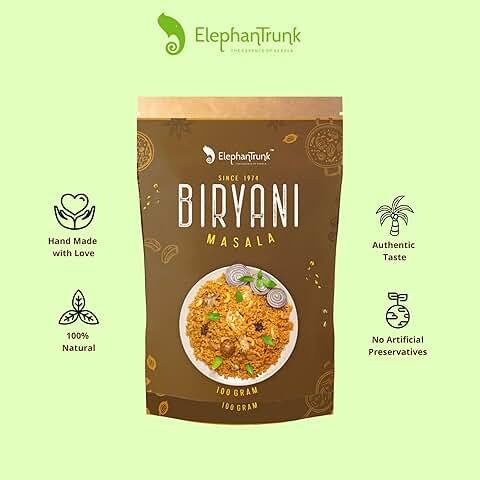Biryani: (136, 97, 339, 426)
